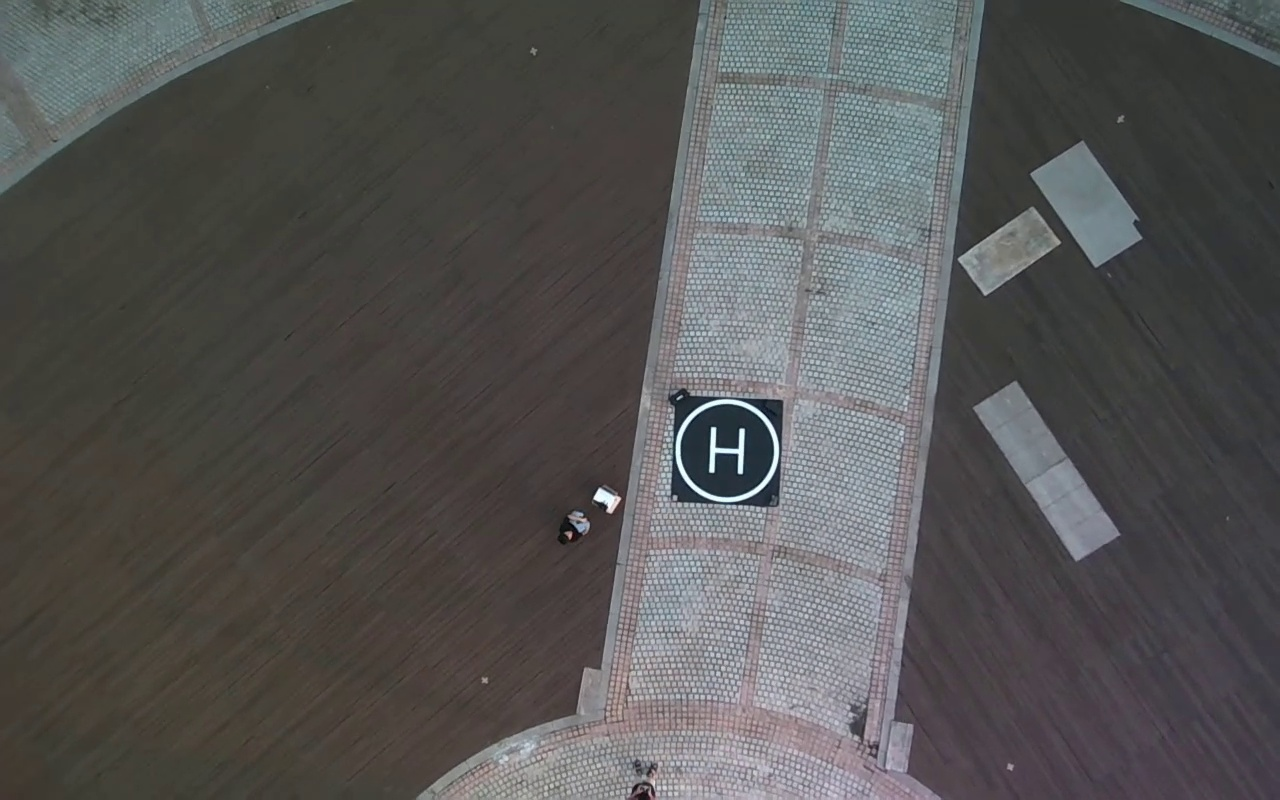H: (707, 428, 746, 475)
heliport: (675, 399, 779, 503)
